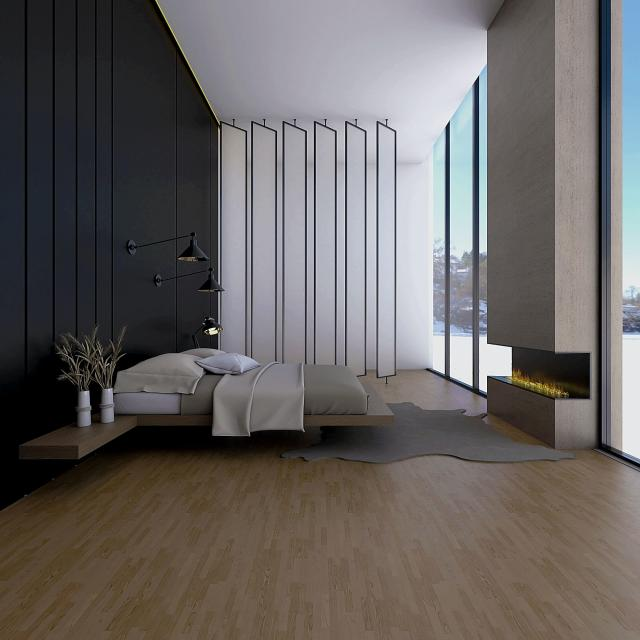floor: (0, 370, 640, 640)
